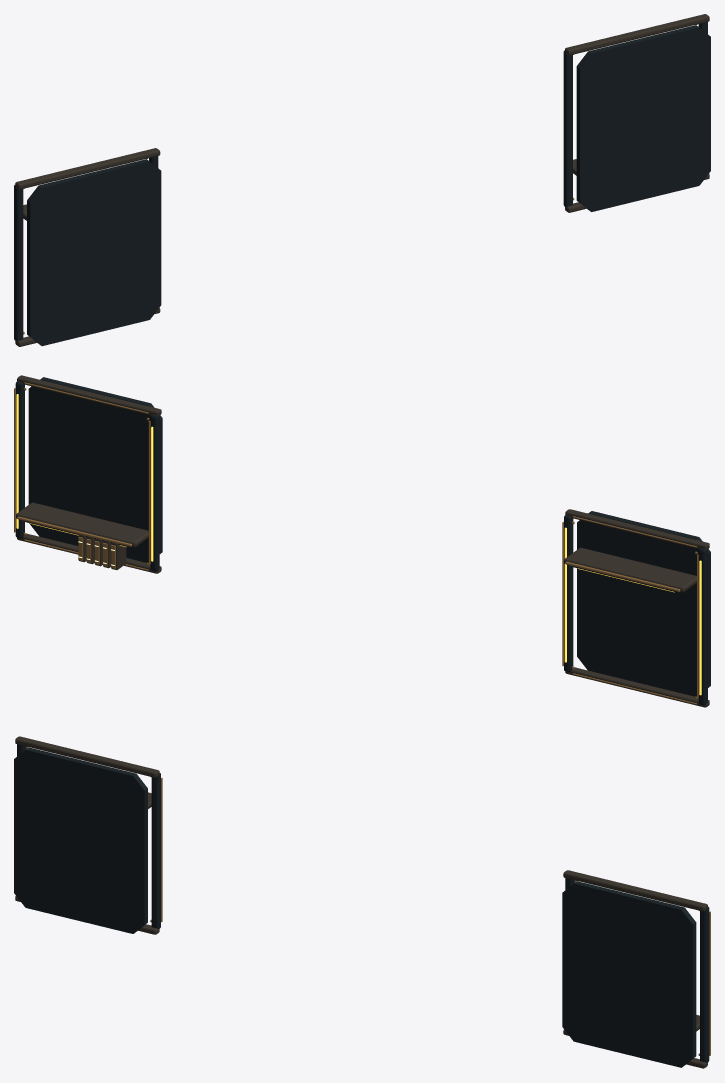
Rendered from cruz-del-sur-amber-details.glb.
3 renders of one model, top to bottom at view 1: azimuth 30°, elevation 25°; view 2: azimuth 150°, elevation 25°; view 3: azimuth 330°, elevation 25°, orthographic.
Parts seen in each view (by area): view 1: BRIDGE_AMBER_DETAIL_STATION_/_Deep_gasket, BRIDGE_AMBER_DETAIL_STATION_AMBER_/_Warm_graphite; view 2: BRIDGE_AMBER_DETAIL_STATION_/_Deep_gasket, BRIDGE_AMBER_DETAIL_STATION_AMBER_/_Warm_graphite, BRIDGE_AMBER_DETAIL_STATION_AMBER_/_Warm_brushed_trim, BRIDGE_AMBER_DETAIL_STATION_AMBER_/_Honey_amber_light_core; view 3: BRIDGE_AMBER_DETAIL_STATION_/_Deep_gasket, BRIDGE_AMBER_DETAIL_STATION_AMBER_/_Warm_graphite, BRIDGE_AMBER_DETAIL_STATION_AMBER_/_Warm_brushed_trim.
Part boxes in pixels (x1,y1,x2,y2): BRIDGE_AMBER_DETAIL_STATION_/_Deep_gasket: (14,22,710,346); BRIDGE_AMBER_DETAIL_STATION_AMBER_/_Warm_graphite: (15,14,709,346); BRIDGE_AMBER_DETAIL_STATION_/_Deep_gasket: (15,377,710,704); BRIDGE_AMBER_DETAIL_STATION_AMBER_/_Warm_graphite: (16,375,709,707); BRIDGE_AMBER_DETAIL_STATION_AMBER_/_Warm_brushed_trim: (14,382,698,704); BRIDGE_AMBER_DETAIL_STATION_AMBER_/_Honey_amber_light_core: (16,394,701,695); BRIDGE_AMBER_DETAIL_STATION_/_Deep_gasket: (14,744,709,1067); BRIDGE_AMBER_DETAIL_STATION_AMBER_/_Warm_graphite: (15,736,707,1068); BRIDGE_AMBER_DETAIL_STATION_AMBER_/_Warm_brushed_trim: (26,746,710,1055).
Size of the model in its own units: 7.18 by 1.62 by 0.4205.
